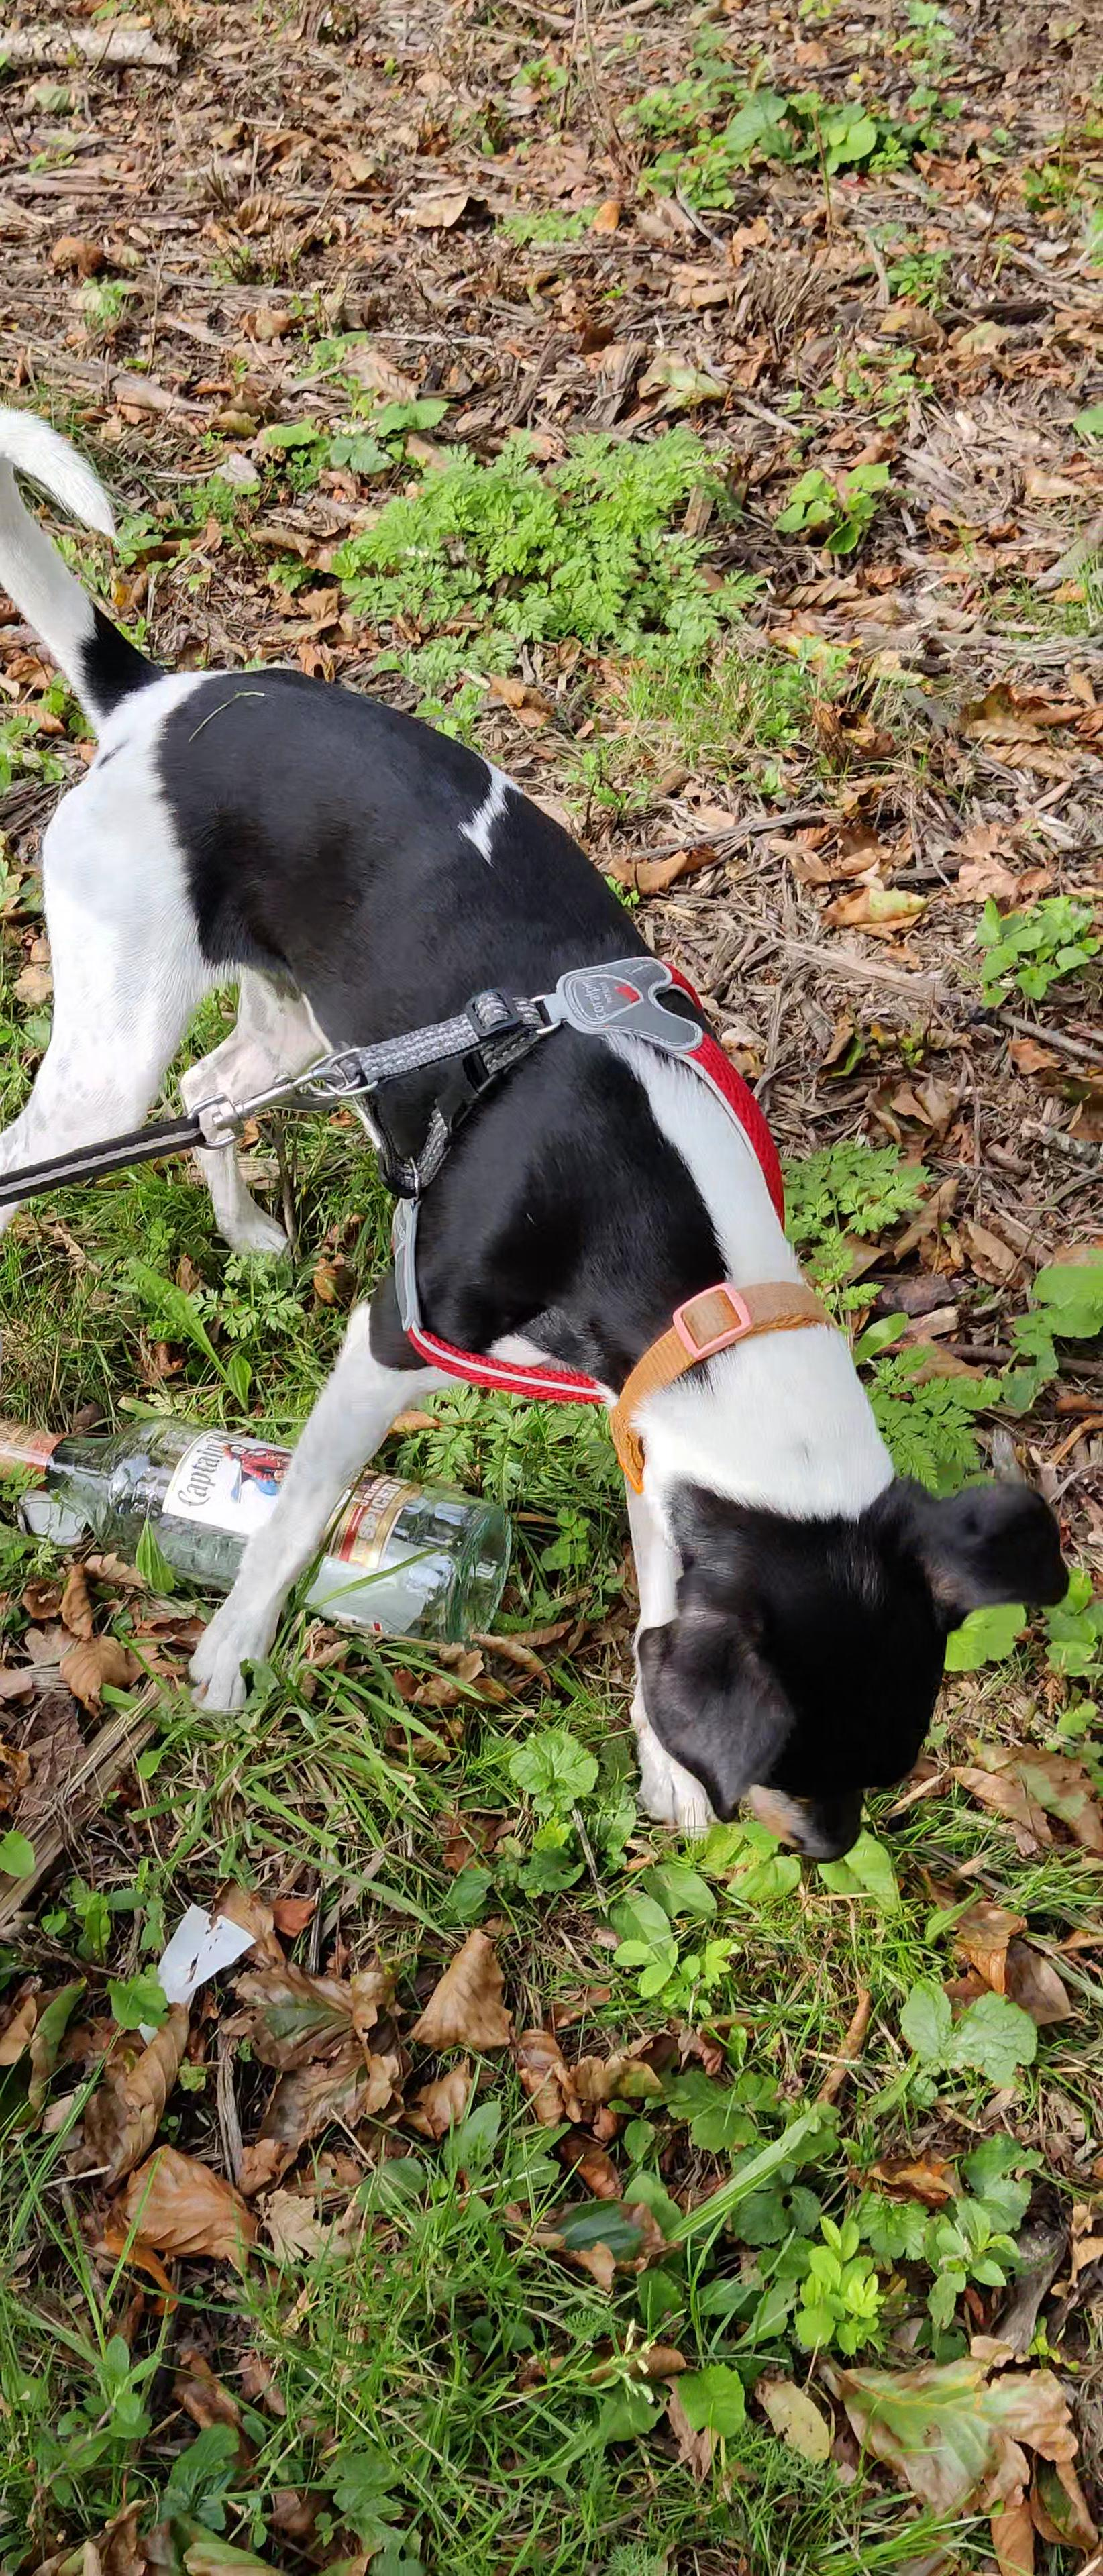Dog: (0, 383, 1085, 1871)
